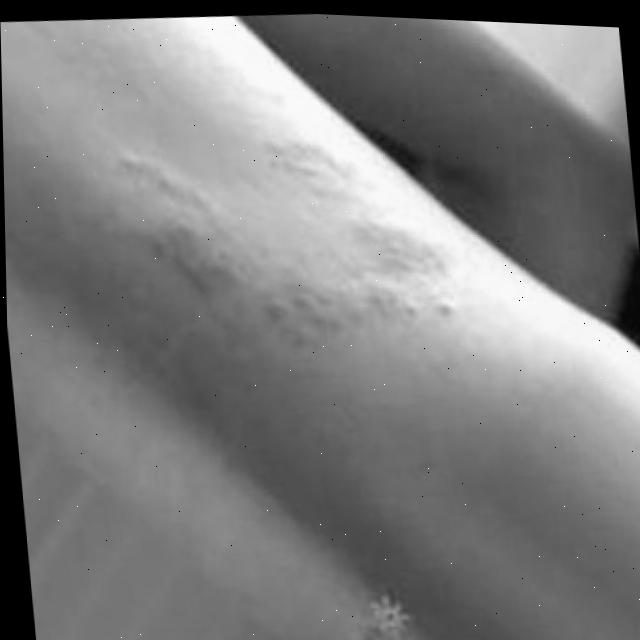Shingles: (130, 126, 442, 352)
